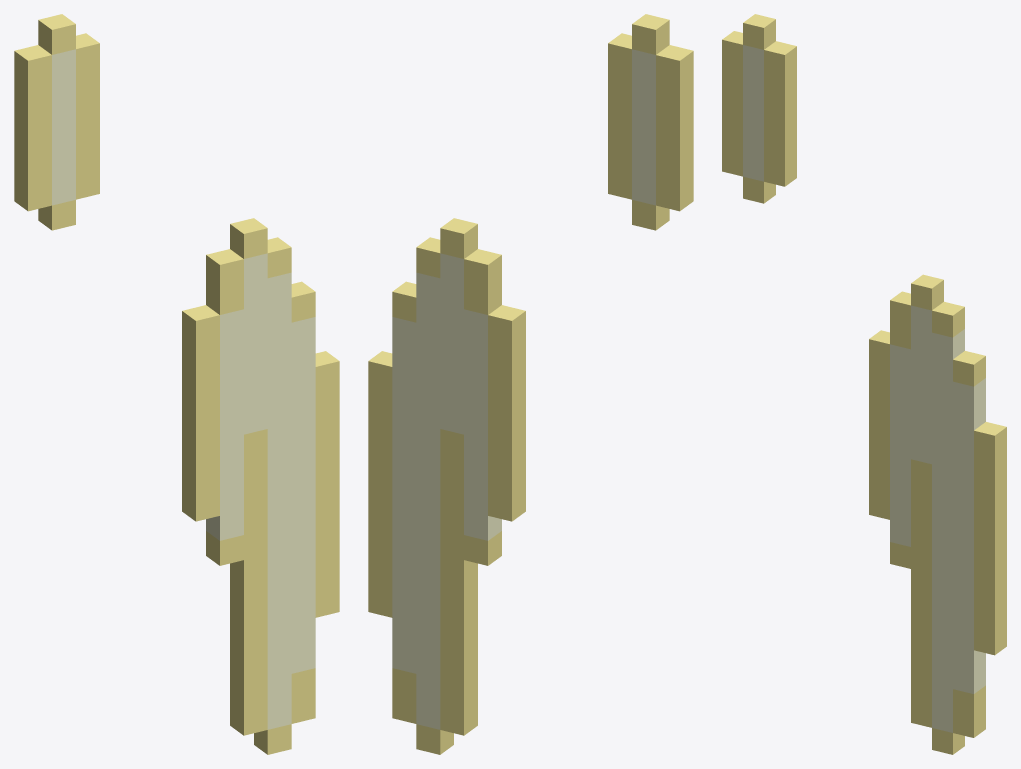
The model's file is Fight_745_2_18_fx.obj.
The picture shows the model from 3 angles, left to right: view 1: azimuth 30°, elevation 25°; view 2: azimuth 150°, elevation 25°; view 3: azimuth 330°, elevation 25°; orthographic projection. The views are drawn at different scales.
Bounding box in the file's own units: 1.3 × 3.1 × 0.1.
Materials: 1 (1 with a texture image).
